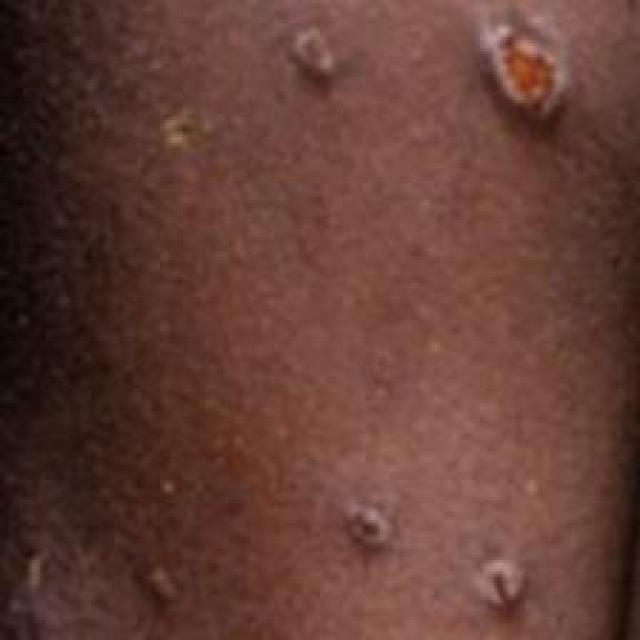monkeypox: (154, 0, 626, 640)
